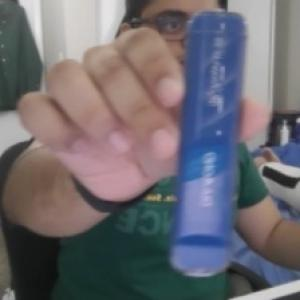Diamond-E-Ciggirate: (167, 5, 247, 282)
